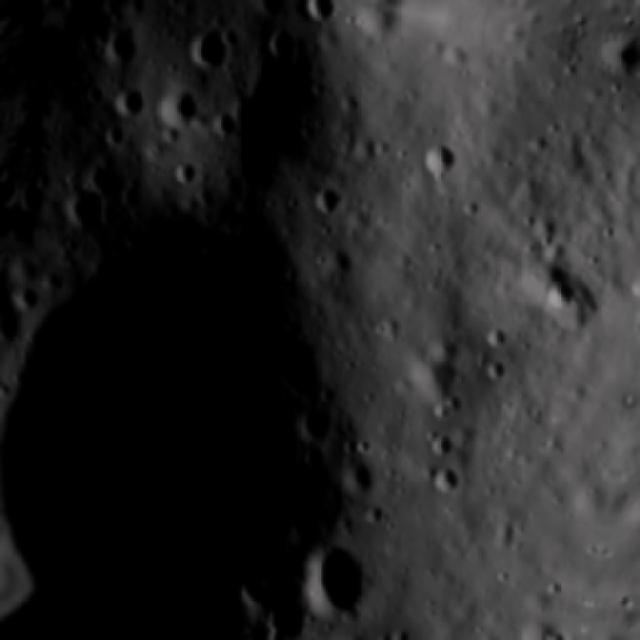crater: (0, 169, 406, 640), (295, 518, 382, 634), (57, 175, 128, 240), (178, 15, 242, 74), (153, 76, 209, 133), (258, 18, 312, 72), (416, 132, 470, 186), (100, 15, 148, 66), (424, 454, 467, 506), (300, 0, 352, 37), (109, 82, 149, 121)
